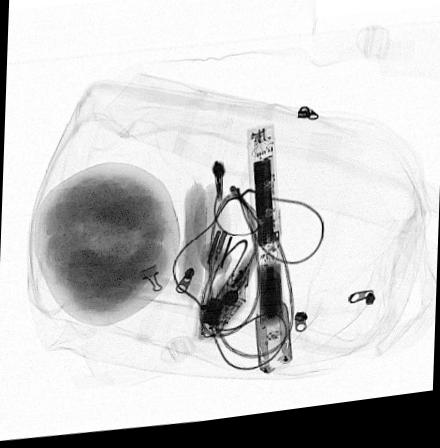Baton: (245, 131, 291, 382)
